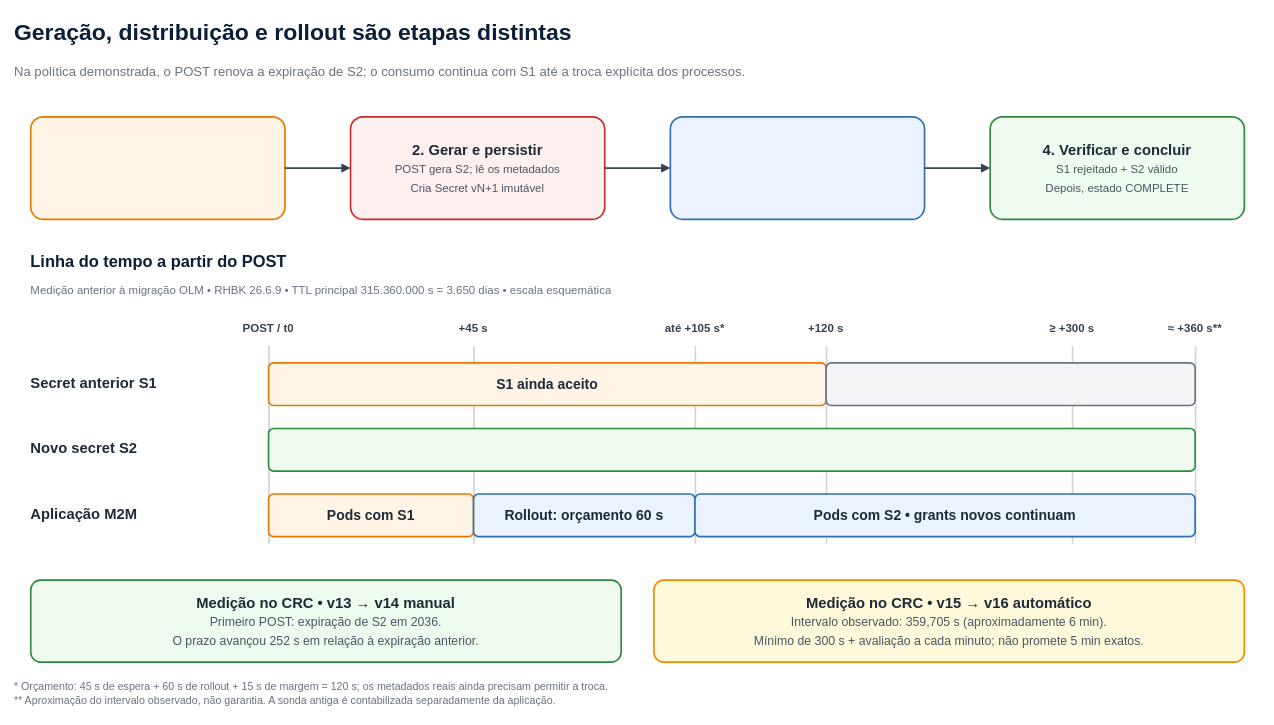
Some shapes in this 1274 by 725 pixel diagram are drawn without their labels. The shapes that lost their labels are listed below. From the top down, each one's centre as x and y in pixels, then its label:
At [157,168]: "1. Avaliar e registrar Adquire Lease; valida S1 Persiste a intenção da operação".
At [797,168]: "3. Substituir os pods Espera 45 s; inicia rollout Novos pods carregam S2".
At [1010,384]: "S1 rejeitado após o prazo".
At [731,449]: "S2: novo TTL de 3.650 dias • válido além desta escala →".
